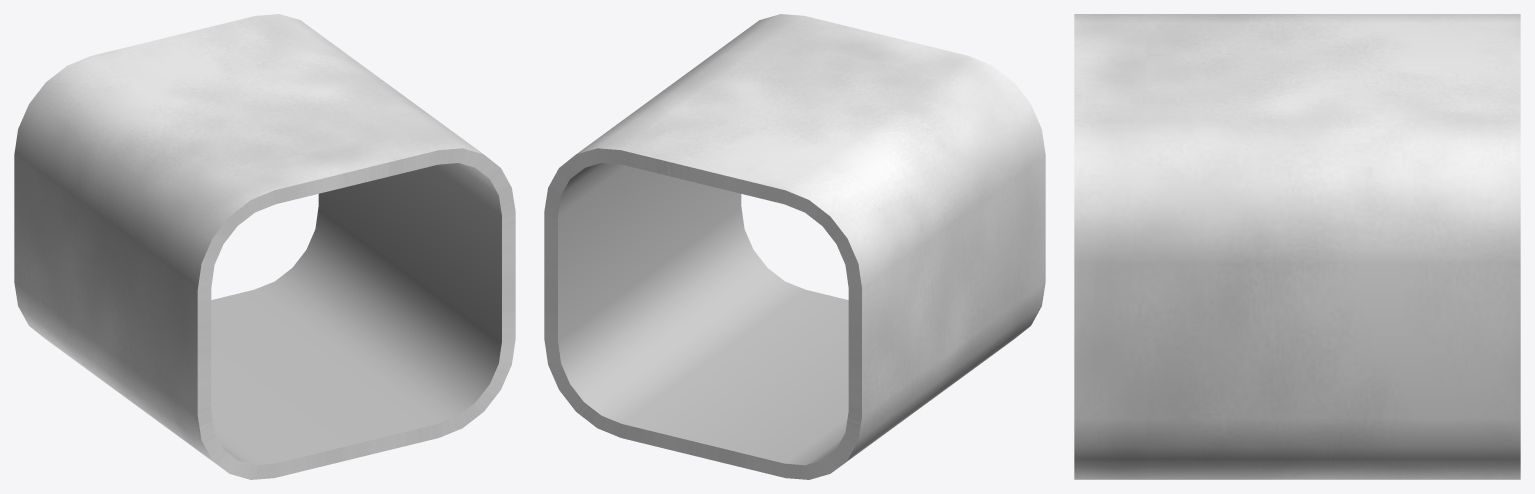
The model's file is chair_3.fbx.
3 views of the same model, side by side, from view 1: azimuth 30°, elevation 25°; view 2: azimuth 150°, elevation 25°; view 3: azimuth 270°, elevation 25° (orthographic). The views are drawn at different scales.
Parts seen in each view (by area): view 1: chair_3_w; view 2: chair_3_w; view 3: chair_3_w.
Part boxes in pixels (box(x1,y1,x2,y2)): chair_3_w: box(14, 14, 515, 479); chair_3_w: box(544, 14, 1045, 479); chair_3_w: box(1074, 14, 1520, 479).
Bounding box in the file's own units: 0.6961 × 0.6023 × 0.6961.
